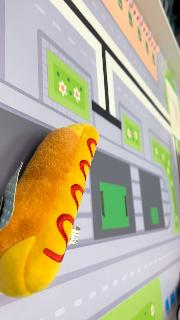hotdog: (0, 122, 100, 298)
